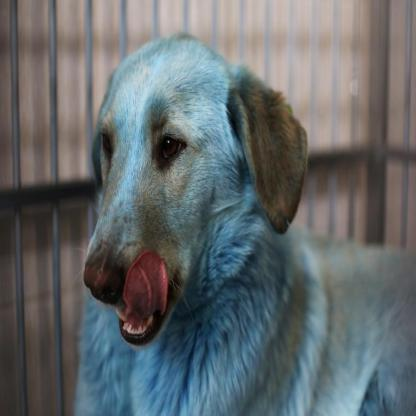dog: (71, 18, 415, 415)
